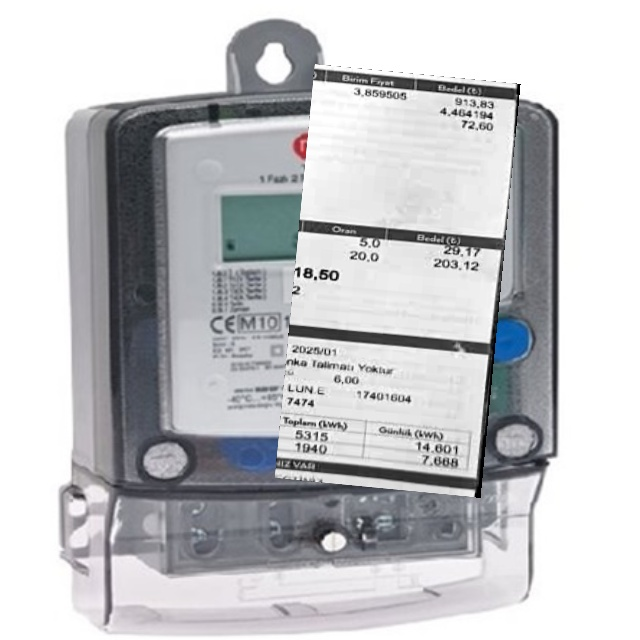electricity-bill: (275, 63, 521, 497)
